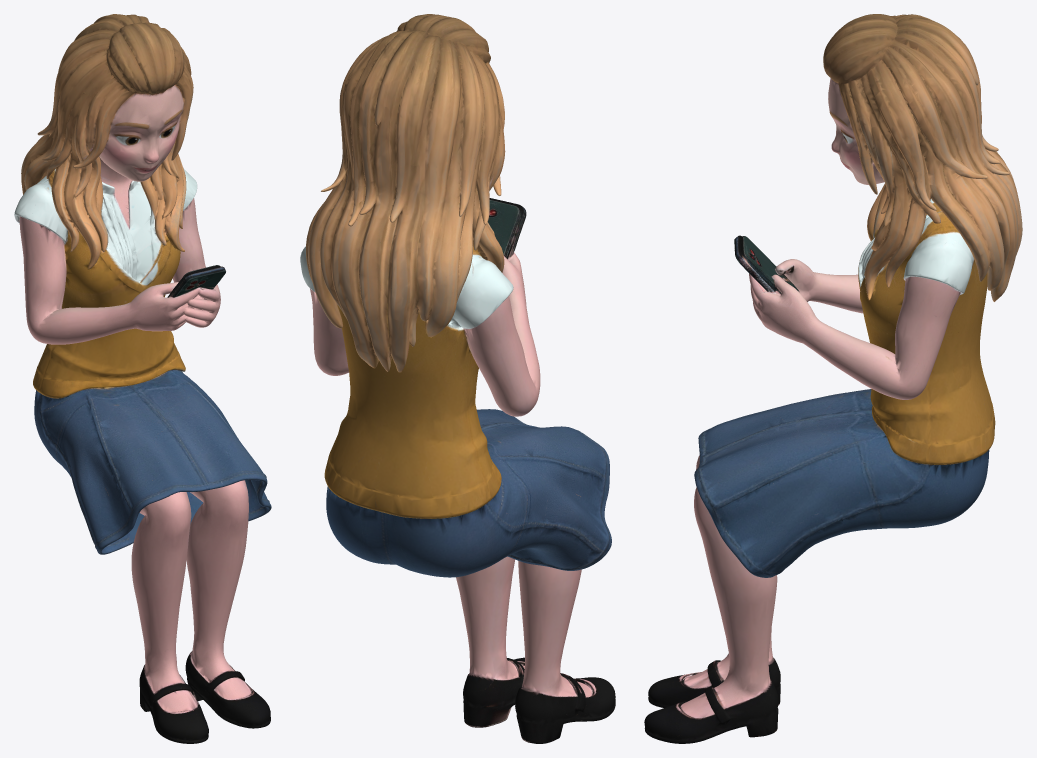
File: user_b_seated_threequarter.glb
3 views of the same model, side by side, from view 1: azimuth 30°, elevation 25°; view 2: azimuth 150°, elevation 25°; view 3: azimuth 270°, elevation 25° (orthographic). The views are drawn at different scales.
Size of the model in its own units: 0.5683 by 1.9 by 0.9245.
Materials: 1 (1 with a texture image).
